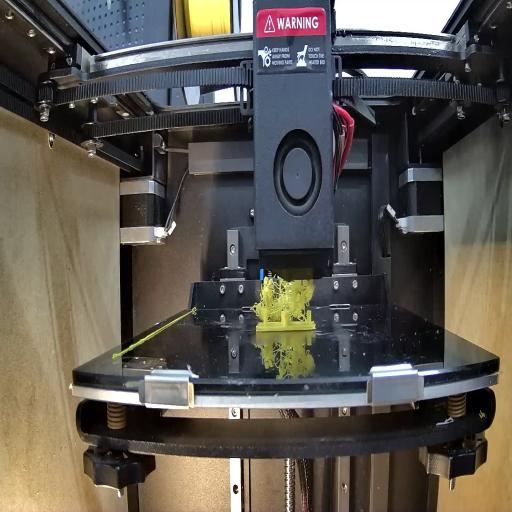spaghetti: (251, 272, 312, 321)
